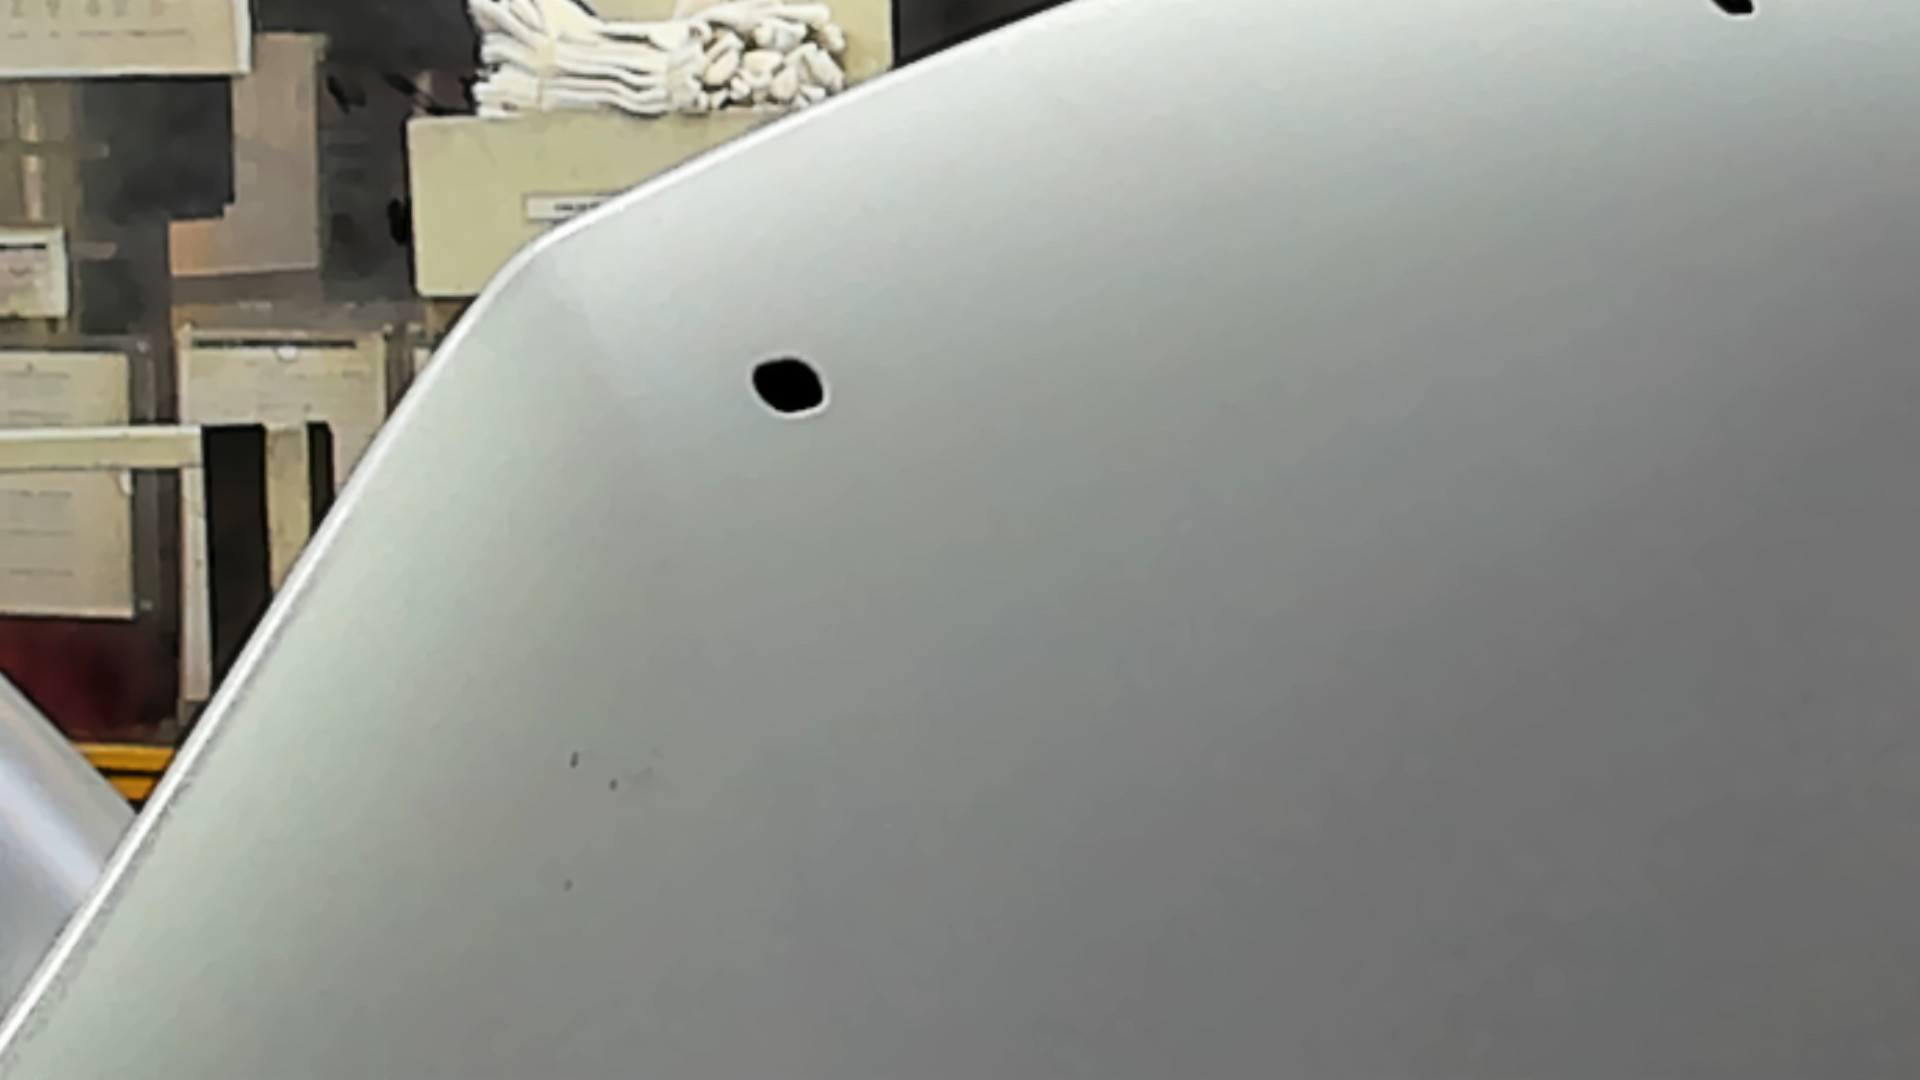amorfo: (741, 349, 836, 426), (1705, 1, 1768, 26)
